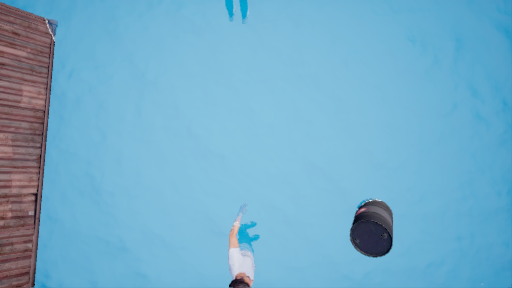person: (220, 209, 270, 287)
